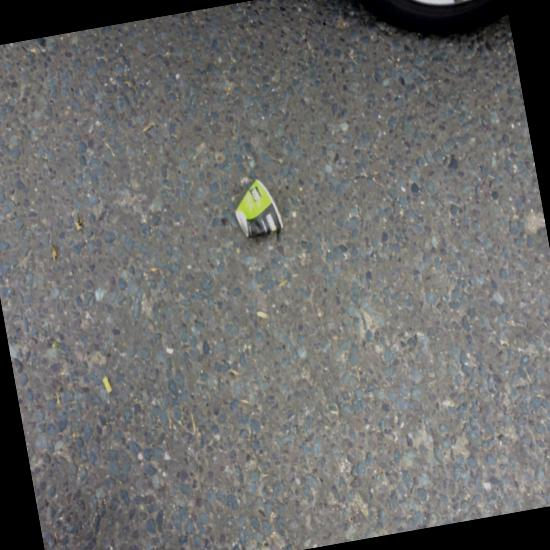Paper cup: (236, 178, 282, 237)
